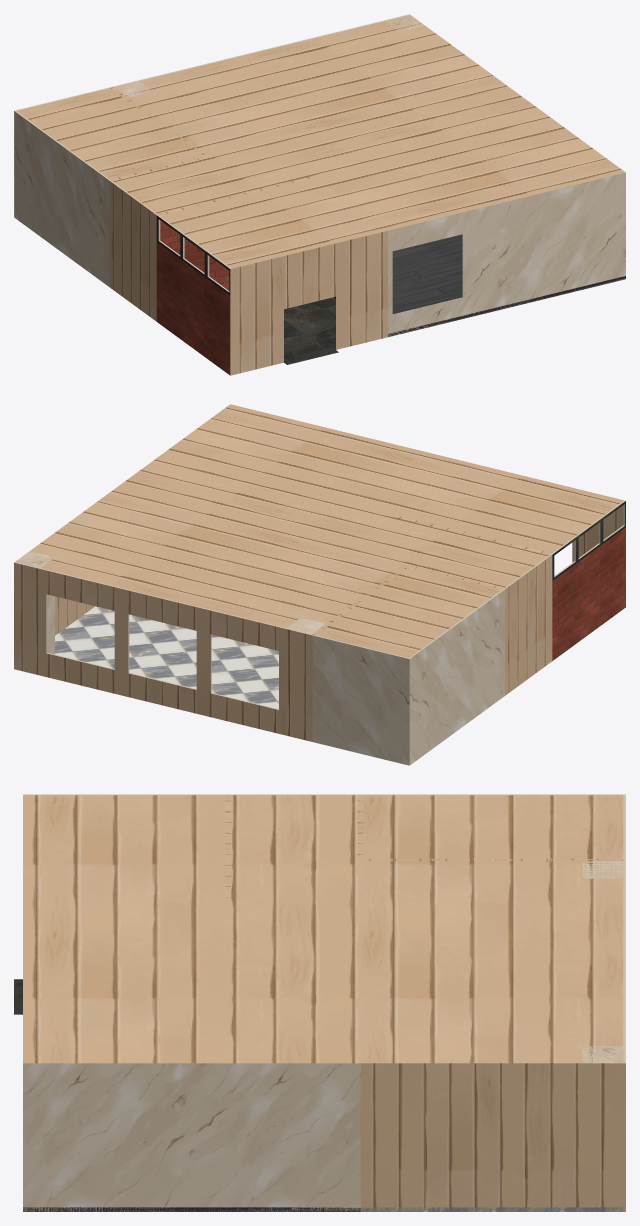
Rendered from Agency.fbx.
The picture shows the model from 3 angles, top to bottom: view 1: azimuth 30°, elevation 25°; view 2: azimuth 150°, elevation 25°; view 3: azimuth 270°, elevation 25°; orthographic projection. The views are drawn at different scales.
Parts seen in each view (by area): view 1: 天花板, 牆壁, 地板; view 2: 天花板, 牆壁, 地板; view 3: 天花板, 牆壁, 地板.
Part boxes in pixels (bbox=[...]): 天花板: bbox=[17, 15, 625, 268]; 牆壁: bbox=[14, 14, 625, 375]; 地板: bbox=[284, 234, 625, 364]; 天花板: bbox=[30, 404, 623, 657]; 牆壁: bbox=[14, 500, 625, 765]; 地板: bbox=[55, 606, 278, 708]; 天花板: bbox=[23, 795, 623, 1063]; 牆壁: bbox=[23, 794, 625, 1211]; 地板: bbox=[14, 979, 623, 1211].
Size of the model in its own units: 15.54 by 4 by 14.93.
6 materials, 6 textured.
